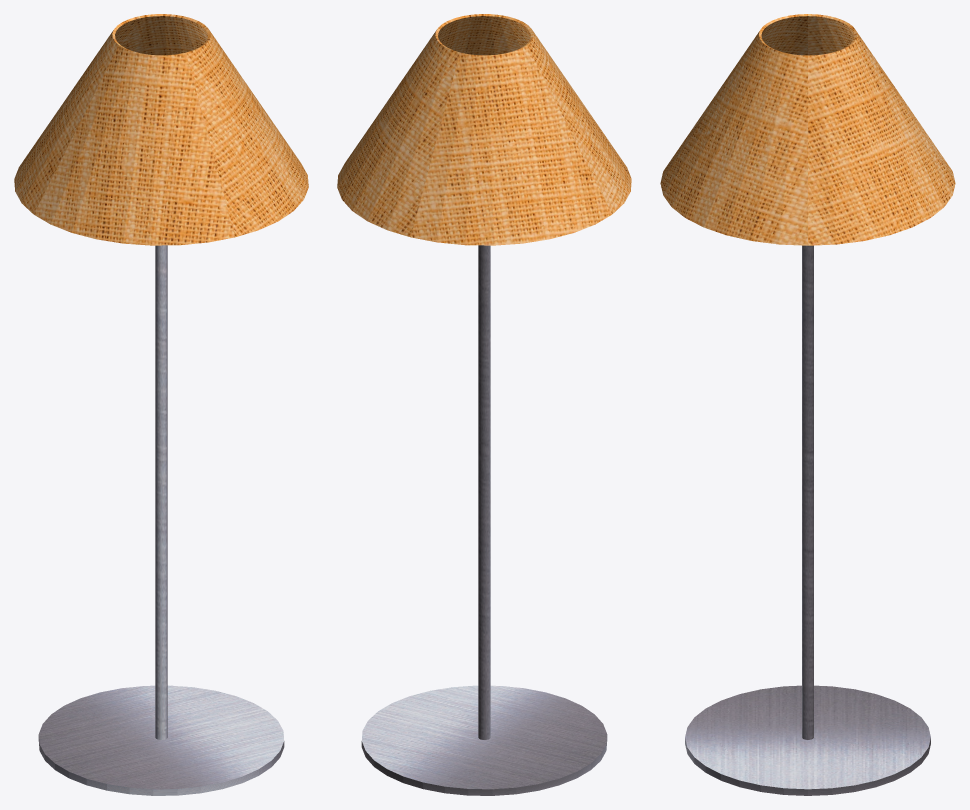
File: Lamp_Floor.glb
3 views of the same model, side by side, from view 1: azimuth 30°, elevation 25°; view 2: azimuth 150°, elevation 25°; view 3: azimuth 270°, elevation 25° (orthographic).
Parts seen in each view (by area): view 1: Base; view 2: Base; view 3: Base.
Boxes of the visible parts, x1,y1,x2,y2 form: Base: (14, 14, 308, 795); Base: (337, 14, 631, 795); Base: (660, 14, 955, 795).
Size of the model in its own units: 0.7767 by 2.06 by 0.7767.
Materials: 2 (2 with a texture image).
